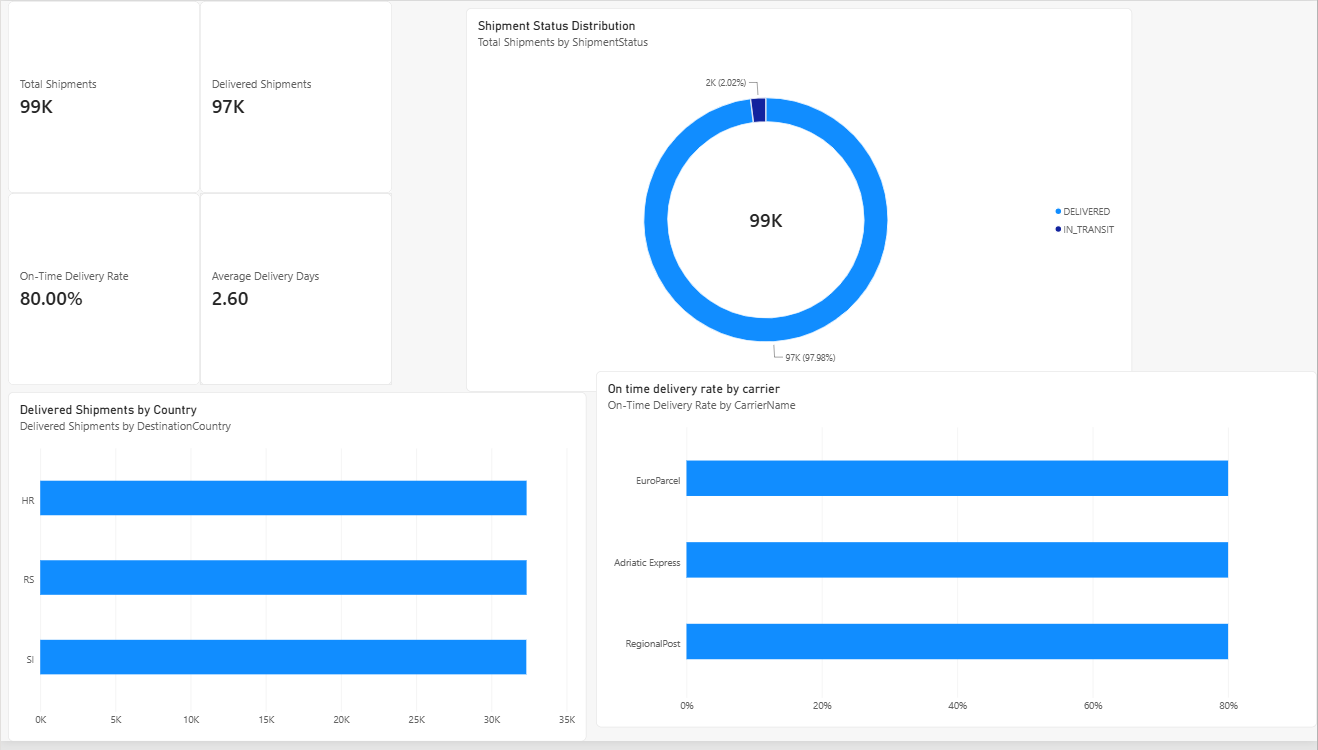

What the dashboard file says about the page in this screenshot:
{"tool":"powerbi","page":{"name":"Order Fulfillment","canvas":[1920,1080],"ordinal":2},"visuals":[{"type":"cardVisual","fields":{"Data":["Fulfillment.Total Shipments"]},"box":[10,0,280,280],"z":0},{"type":"cardVisual","fields":{"Data":["Fulfillment.On-Time Delivery Rate"]},"box":[10,280,280,280],"z":1},{"type":"cardVisual","fields":{"Data":["Fulfillment.Average Delivery Days"]},"box":[290,280,280,280],"z":2},{"type":"cardVisual","fields":{"Data":["Fulfillment.Delivered Shipments"]},"box":[290,0,280,280],"z":3},{"type":"clusteredBarChart","title":"Delivered Shipments by Country","fields":{"Category":["Fulfillment.DestinationCountry"],"Y":["Fulfillment.Delivered Shipments"]},"box":[10,570,844,510],"z":4},{"type":"donutChart","title":"Shipment Status Distribution","fields":{"Category":["Fulfillment.ShipmentStatus"],"Y":["Fulfillment.Total Shipments"]},"box":[678,10,972,560],"z":5},{"type":"clusteredBarChart","title":"On time delivery rate by carrier","fields":{"Category":["Fulfillment.CarrierName"],"Y":["Fulfillment.On-Time Delivery Rate"]},"box":[868,540,1052,520],"z":6}]}

Visuals, with their boxes in screenshot pixels (x1, y1, x2, y2), scaled from the page's 1920x1080 canvas onto the 1318x750 screenshot:
cardVisual - Fulfillment.Total Shipments: 7,0,199,194
cardVisual - Fulfillment.On-Time Delivery Rate: 7,194,199,389
cardVisual - Fulfillment.Average Delivery Days: 199,194,391,389
cardVisual - Fulfillment.Delivered Shipments: 199,0,391,194
"Delivered Shipments by Country" clusteredBarChart: 7,396,586,749
"Shipment Status Distribution" donutChart: 465,7,1133,396
"On time delivery rate by carrier" clusteredBarChart: 596,375,1317,736
